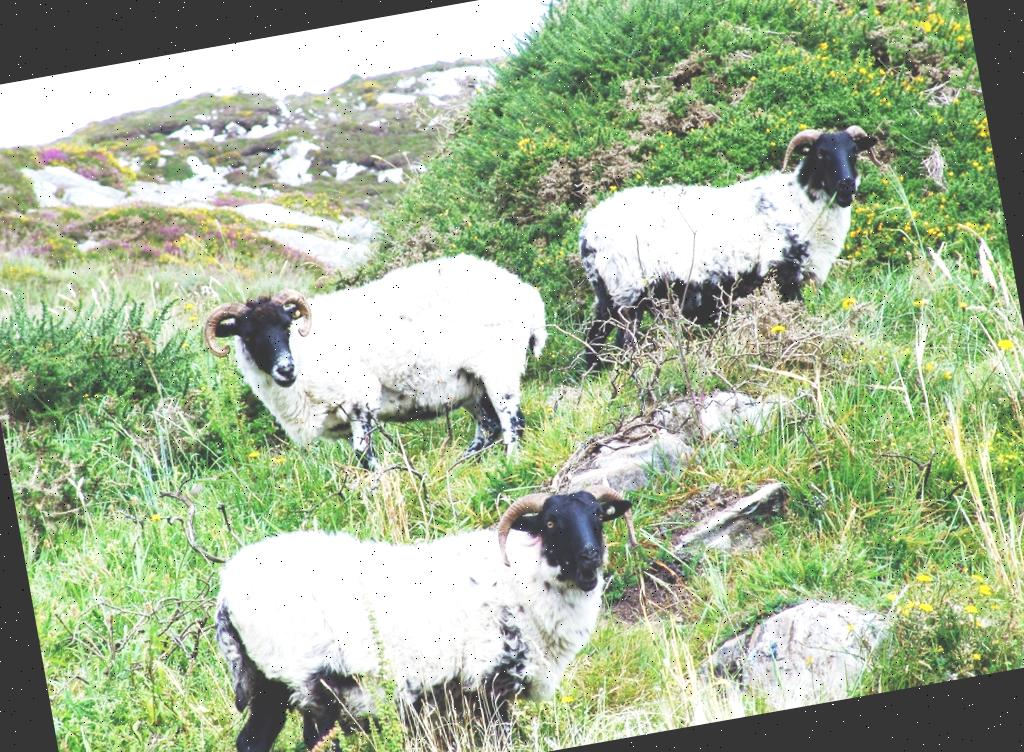Sheep: (195, 478, 666, 752), (194, 240, 570, 521), (550, 116, 910, 382)
